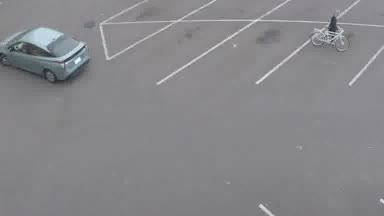car: (0, 24, 90, 82)
person: (310, 9, 353, 55)
